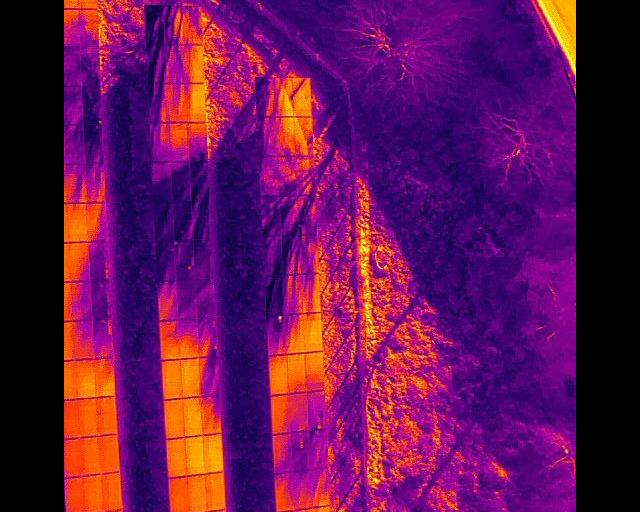Cell: (267, 314, 285, 355)
No-Anomaly: (166, 397, 186, 439), (182, 356, 202, 398), (95, 358, 116, 398), (206, 470, 226, 511), (79, 436, 100, 474), (81, 474, 102, 512), (271, 394, 291, 433), (76, 397, 96, 436), (168, 436, 187, 477), (187, 434, 206, 475), (74, 359, 94, 397), (97, 396, 117, 434), (66, 202, 85, 241), (269, 355, 288, 394), (100, 434, 119, 473), (101, 473, 121, 510), (304, 311, 322, 352), (288, 353, 307, 391), (306, 351, 324, 391), (171, 475, 190, 512), (164, 359, 182, 398), (186, 395, 203, 436), (189, 473, 206, 512), (189, 83, 206, 122), (205, 434, 222, 473), (64, 475, 80, 512), (189, 44, 204, 83), (64, 438, 79, 476), (78, 0, 97, 9), (64, 0, 78, 9)
Shadowing: (92, 280, 117, 319), (90, 242, 114, 281), (69, 281, 92, 321), (144, 4, 166, 44), (201, 355, 222, 396), (148, 81, 169, 122), (64, 164, 86, 203), (168, 43, 189, 83), (277, 155, 298, 195), (86, 202, 107, 242), (71, 320, 93, 358), (93, 320, 115, 358), (79, 8, 99, 49), (68, 242, 89, 281), (64, 125, 85, 164), (83, 124, 104, 163), (86, 163, 107, 202), (151, 162, 172, 201), (158, 279, 178, 319), (179, 318, 199, 358), (259, 155, 279, 195), (260, 195, 280, 235), (293, 76, 313, 116), (146, 45, 167, 83), (169, 82, 189, 121), (169, 121, 189, 160), (172, 201, 192, 240), (175, 239, 195, 278), (203, 395, 223, 434), (274, 76, 294, 115), (280, 195, 300, 234), (282, 234, 302, 273), (65, 86, 85, 125), (292, 430, 311, 471), (296, 154, 315, 195), (161, 319, 180, 359), (173, 161, 192, 201), (178, 279, 197, 319), (258, 116, 277, 156), (265, 274, 284, 314), (184, 5, 203, 44), (255, 76, 274, 115), (276, 116, 295, 155), (200, 318, 220, 355), (273, 434, 292, 472), (81, 48, 100, 86), (166, 4, 184, 44), (275, 471, 293, 511), (157, 239, 175, 279), (82, 87, 101, 124), (190, 121, 208, 160), (263, 235, 281, 274), (284, 273, 302, 312), (291, 391, 309, 430), (293, 470, 311, 509), (308, 390, 326, 429), (153, 202, 171, 241), (198, 278, 215, 319), (286, 313, 303, 354), (151, 121, 168, 162), (192, 162, 209, 202), (190, 121, 207, 160), (195, 239, 212, 278), (296, 116, 313, 155), (310, 429, 327, 468), (311, 468, 328, 506), (64, 48, 81, 86), (193, 202, 210, 239), (301, 234, 317, 273), (303, 273, 319, 312), (64, 8, 78, 49)
